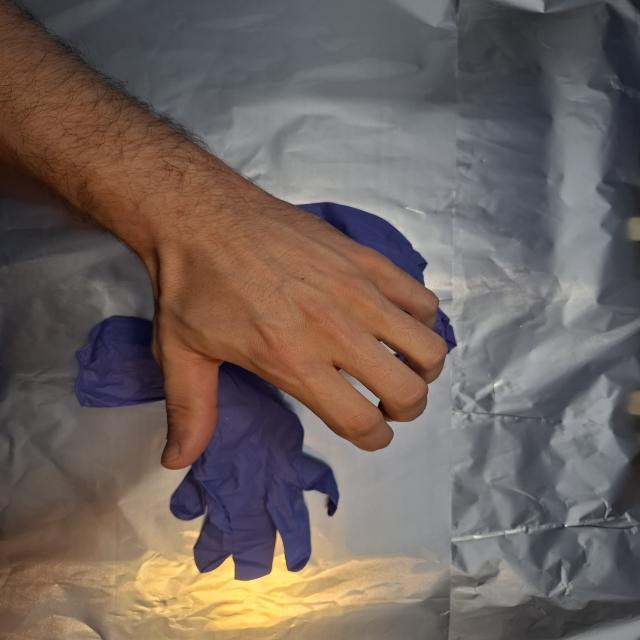glove_off: (128, 195, 450, 472)
